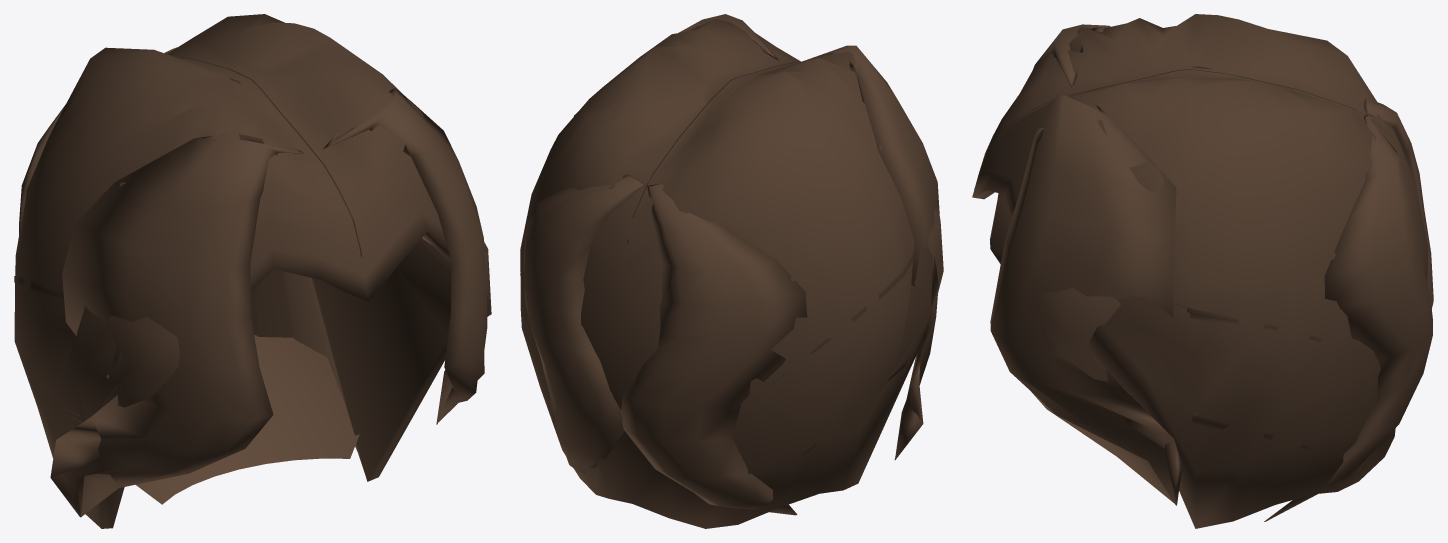
File: hair-reed.glb
The picture shows the model from 3 angles, left to right: view 1: azimuth 30°, elevation 25°; view 2: azimuth 150°, elevation 25°; view 3: azimuth 270°, elevation 25°; orthographic projection. The views are drawn at different scales.
Parts seen in each view (by area): view 1: hair-reed_ref2_hair-reed__head_mesh; view 2: hair-reed_ref2_hair-reed__head_mesh; view 3: hair-reed_ref2_hair-reed__head_mesh.
Boxes of the visible parts, x1,y1,x2,y2 form: hair-reed_ref2_hair-reed__head_mesh: (14, 14, 491, 528); hair-reed_ref2_hair-reed__head_mesh: (520, 14, 943, 528); hair-reed_ref2_hair-reed__head_mesh: (972, 14, 1433, 528).
Size of the model in its own units: 0.4415 by 0.4587 by 0.4546.
